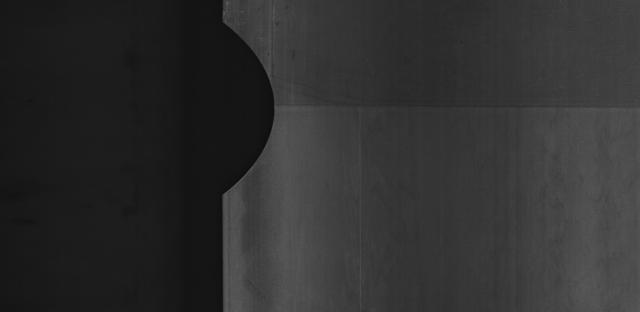welding_line: (264, 94, 634, 119)
